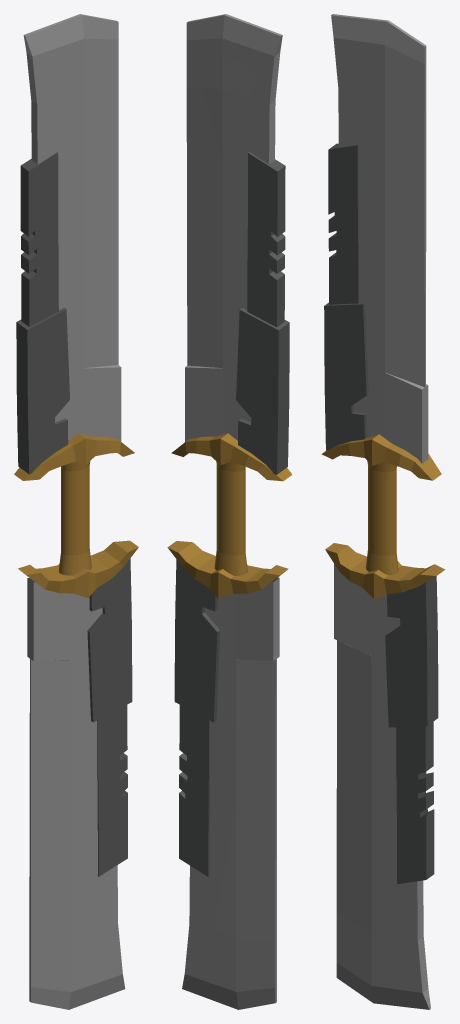
File: thanosSword_FixedPosition.dae
3 renders of one model, left to right at view 1: azimuth 30°, elevation 25°; view 2: azimuth 150°, elevation 25°; view 3: azimuth 330°, elevation 25°, orthographic.
Visible parts, largest first — view 1: ThanosFBXASC032FixedFBXASC032UVs; view 2: ThanosFBXASC032FixedFBXASC032UVs; view 3: ThanosFBXASC032FixedFBXASC032UVs.
Part boxes in pixels (bbox=[...]): ThanosFBXASC032FixedFBXASC032UVs: bbox=[14, 14, 138, 1009]; ThanosFBXASC032FixedFBXASC032UVs: bbox=[167, 14, 292, 1009]; ThanosFBXASC032FixedFBXASC032UVs: bbox=[321, 14, 445, 1009].
Bounding box in the file's own units: 0.5078 × 4.15 × 0.1598.
